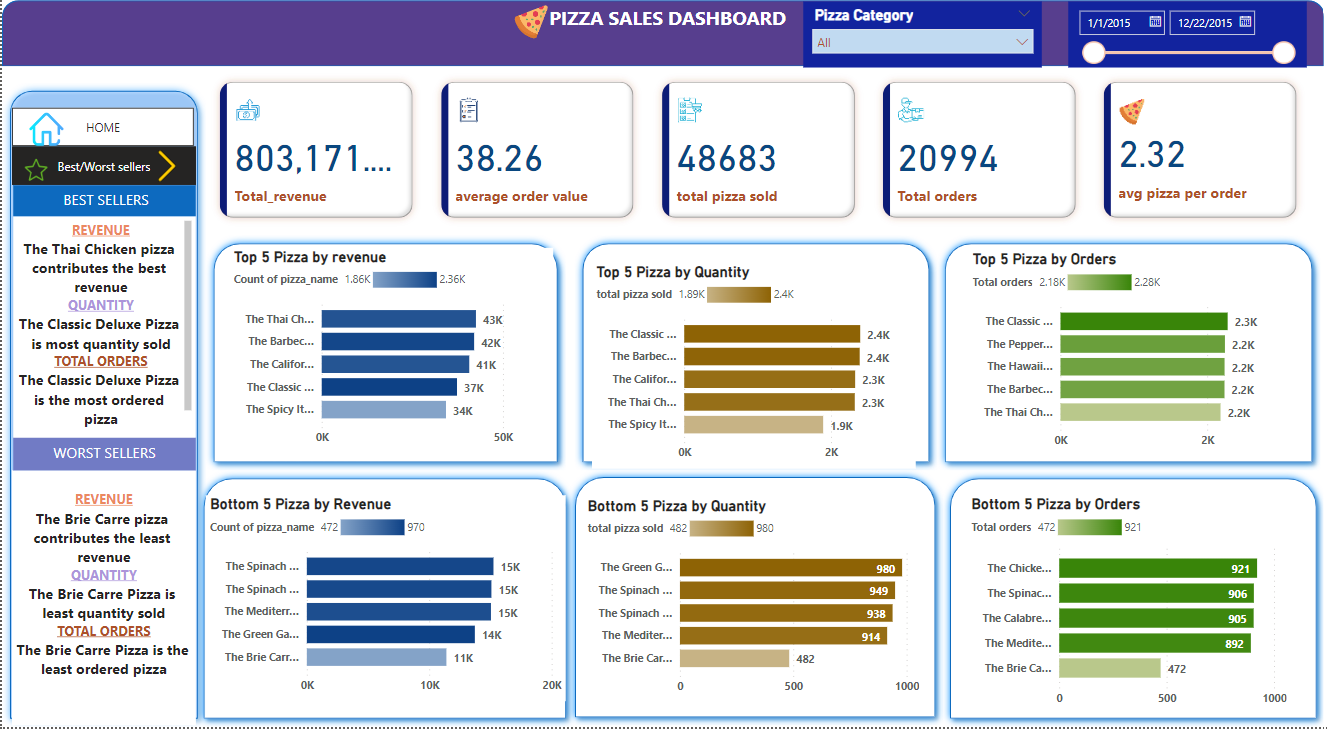

The dashboard page shown, as its layout file describes it:
{"tool":"powerbi","page":{"name":"Best/Worst sellers","canvas":[1500,820],"ordinal":1},"visuals":[{"type":"actionButton","box":[0,0,100,40],"z":0},{"type":"cardVisual","fields":{"Data":["sales_pizza.Total_revenue","sales_pizza.average order value","sales_pizza.total pizza sold","sales_pizza.Total orders","sales_pizza.avg pizza per order"]},"box":[229.6,77.5,1245.1,185.9],"z":1000},{"type":"shape","box":[0,1.4,1490.1,74.6],"z":2000},{"type":"textbox","box":[571.8,1.4,356.3,49.3],"z":3000},{"type":"image","box":[571.8,1.4,49.3,49.3],"z":4000},{"type":"shape","box":[229.6,266.2,405.6,264.8],"z":5000},{"type":"shape","box":[645.1,266.2,408.5,264.8],"z":7000},{"type":"shape","box":[218.3,531,426.8,288.7],"z":9000},{"type":"shape","box":[636.6,529.6,423.9,288.7],"z":10000},{"type":"shape","box":[1059.2,531,431,288.7],"z":11000},{"type":"shape","box":[0,94.4,229.6,725.4],"z":15000},{"type":"textbox","box":[12.7,209.9,205.6,35.2],"z":16000},{"type":"textbox","box":[12.7,245.1,205.6,249.3],"z":17000},{"type":"textbox","box":[11.3,531,207,287.3],"z":18000},{"type":"textbox","box":[12.7,494.4,205.6,36.6],"z":19000},{"type":"slicer","fields":{"Values":["sales_pizza.pizza_category"]},"box":[902.8,2.8,269,74.6],"z":20000},{"type":"slicer","fields":{"Values":["sales_pizza.order_date"]},"box":[1201.4,2.8,269,74.6],"z":21000},{"type":"shape","box":[1053.5,266.2,432.4,264.8],"z":21001},{"type":"barChart","title":"Top 5 Pizza by revenue","fields":{"Category":["sales_pizza.pizza_name"],"Y":["sales_pizza.Total_revenue"]},"box":[256.3,280.3,364.8,232.4],"z":21002},{"type":"barChart","title":"Bottom 5 Pizza by Revenue","fields":{"Category":["sales_pizza.pizza_name"],"Y":["sales_pizza.Total_revenue"]},"box":[229.6,559.2,405.6,232.4],"z":21003},{"type":"barChart","title":"Top 5 Pizza by Quantity","fields":{"Category":["sales_pizza.pizza_name"],"Y":["sales_pizza.total pizza sold"]},"box":[664.8,297.2,364.8,232.4],"z":21004},{"type":"barChart","title":"Bottom 5 Pizza by Quantity","fields":{"Category":["sales_pizza.pizza_name"],"Y":["sales_pizza.total pizza sold"]},"box":[654.9,560.6,383.1,232.4],"z":21005},{"type":"barChart","title":"Top 5 Pizza by Orders","fields":{"Category":["sales_pizza.pizza_name"],"Y":["sales_pizza.Total orders"]},"box":[1088.7,283.1,364.8,232.4],"z":21006},{"type":"barChart","title":"Bottom 5 Pizza by Orders","fields":{"Category":["sales_pizza.pizza_name"],"Y":["sales_pizza.Total orders"]},"box":[1087.3,559.2,364.8,246.5],"z":21007},{"type":"pageNavigator","box":[11.3,122.5,205.6,43.7],"z":21008},{"type":"pageNavigator","box":[11.3,166.2,207,43.7],"z":21009},{"type":"image","box":[14.1,122.5,71.8,47.9],"z":21010},{"type":"image","box":[163.4,157.7,45.1,60.6],"z":21011},{"type":"image","box":[11.3,174.6,54.9,35.2],"z":21012}]}

Visuals, with their boxes in screenshot pixels (x1, y1, x2, y2), scaled from the page's 1500x820 canvas onto the 1327x731 screenshot:
actionButton: 0,0,88,36
cardVisual - sales_pizza.Total_revenue x sales_pizza.average order value: 203,69,1305,235
shape: 0,1,1318,68
textbox: 506,1,821,45
image: 506,1,549,45
shape: 203,237,562,473
shape: 571,237,932,473
shape: 193,473,571,730
shape: 563,472,938,729
shape: 937,473,1318,730
shape: 0,84,203,730
textbox: 11,187,193,218
textbox: 11,218,193,441
textbox: 10,473,193,729
textbox: 11,441,193,473
slicer - sales_pizza.pizza_category: 799,2,1037,69
slicer - sales_pizza.order_date: 1063,2,1301,69
shape: 932,237,1315,473
"Top 5 Pizza by revenue" barChart: 227,250,549,457
"Bottom 5 Pizza by Revenue" barChart: 203,499,562,706
"Top 5 Pizza by Quantity" barChart: 588,265,911,472
"Bottom 5 Pizza by Quantity" barChart: 579,500,918,707
"Top 5 Pizza by Orders" barChart: 963,252,1286,460
"Bottom 5 Pizza by Orders" barChart: 962,499,1285,718
pageNavigator: 10,109,192,148
pageNavigator: 10,148,193,187
image: 12,109,76,152
image: 145,141,184,195
image: 10,156,59,187
